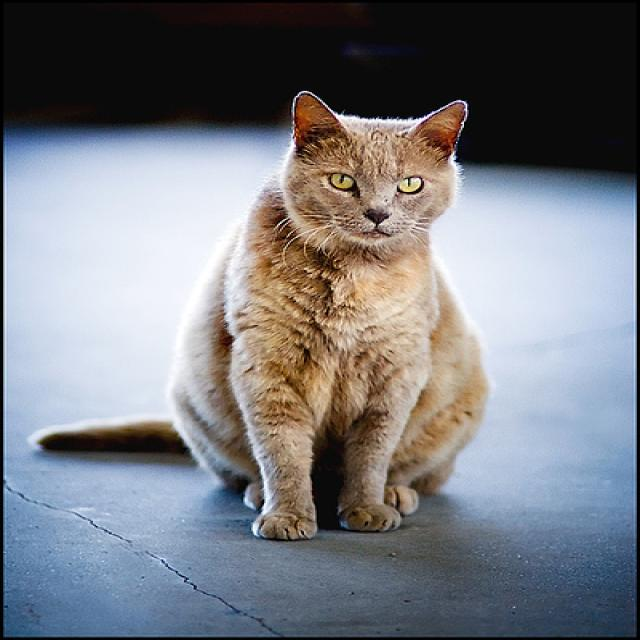cat: (28, 90, 491, 543)
